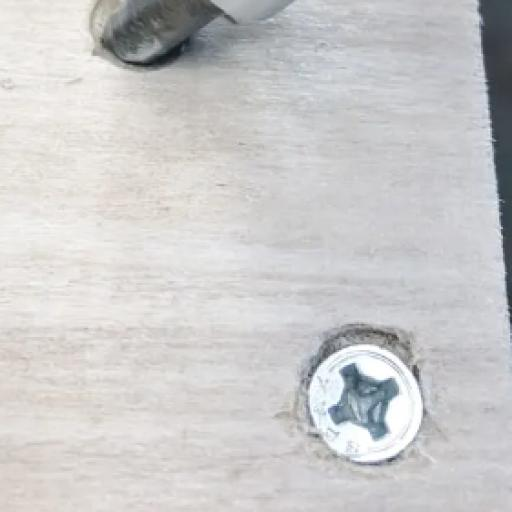Phillips: (309, 340, 425, 465)
